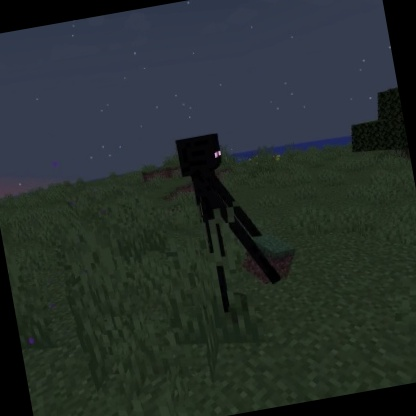enderman: (171, 123, 289, 320)
